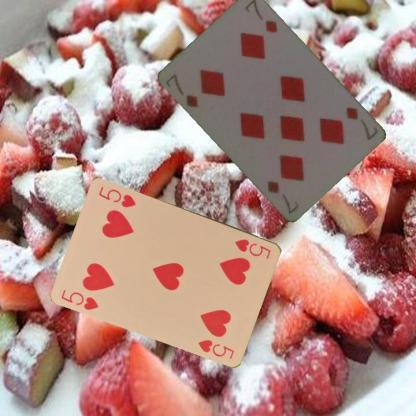5h: (58, 286, 100, 312), (232, 236, 272, 260)
7d: (163, 71, 200, 109), (344, 104, 379, 142)
